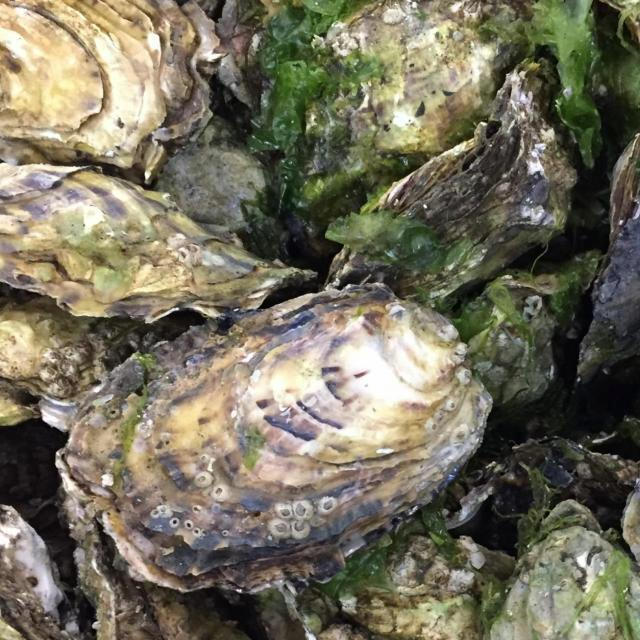Oyster-Closed: (55, 281, 490, 591), (259, 0, 542, 258), (329, 57, 576, 315), (0, 162, 319, 322), (0, 0, 218, 166), (0, 284, 216, 429), (56, 490, 251, 640), (456, 250, 601, 439), (487, 502, 640, 640), (317, 536, 518, 639), (201, 0, 374, 104), (164, 119, 290, 261), (493, 439, 639, 558), (573, 136, 640, 383), (0, 505, 72, 640), (619, 479, 640, 574)
